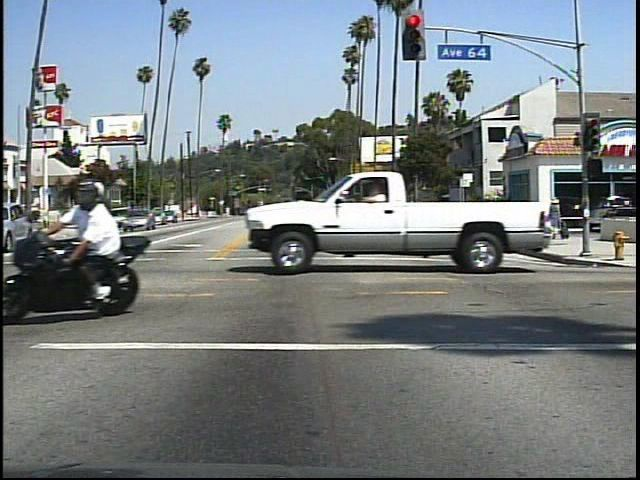person: (61, 177, 141, 311), (542, 193, 569, 246)
